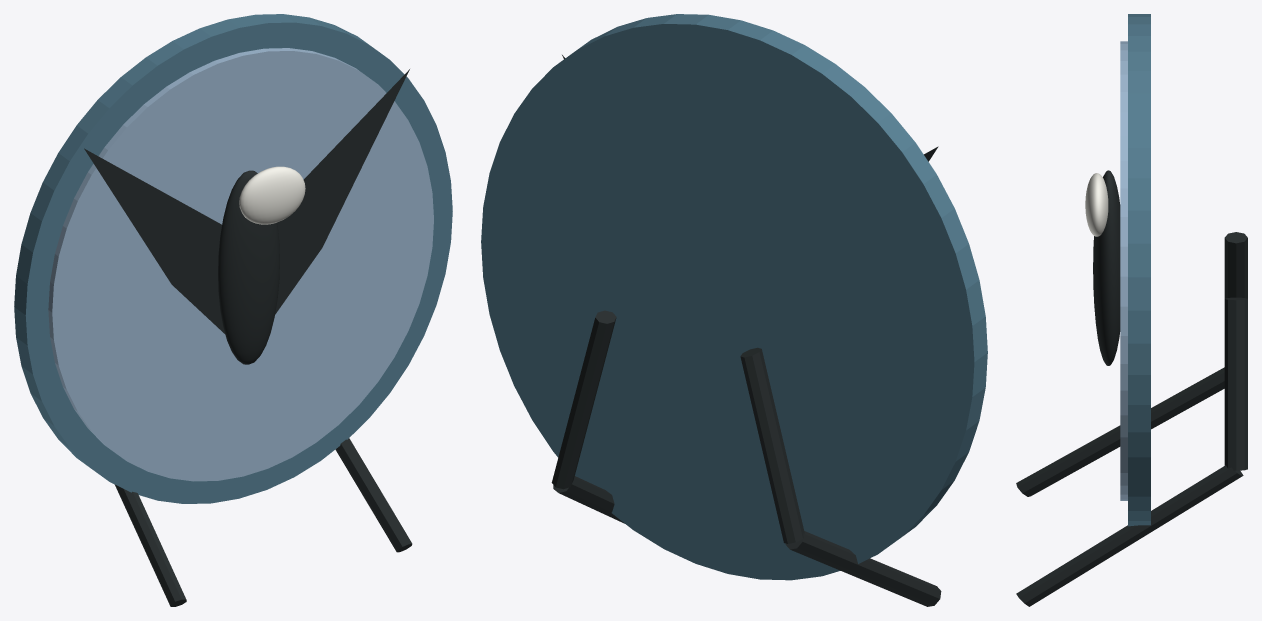
Rendered from eagle-display-plate.glb.
3 views of the same model, side by side, from view 1: azimuth 30°, elevation 25°; view 2: azimuth 150°, elevation 25°; view 3: azimuth 270°, elevation 25° (orthographic). The views are drawn at different scales.
Visible parts, largest first — view 1: eagle-display-plate; view 2: eagle-display-plate; view 3: eagle-display-plate.
Boxes of the visible parts, <box> form: eagle-display-plate: <box>14,14,452,606</box>; eagle-display-plate: <box>481,14,987,606</box>; eagle-display-plate: <box>1016,14,1247,606</box>.
Size of the model in its own units: 0.17 by 0.1962 by 0.08.
